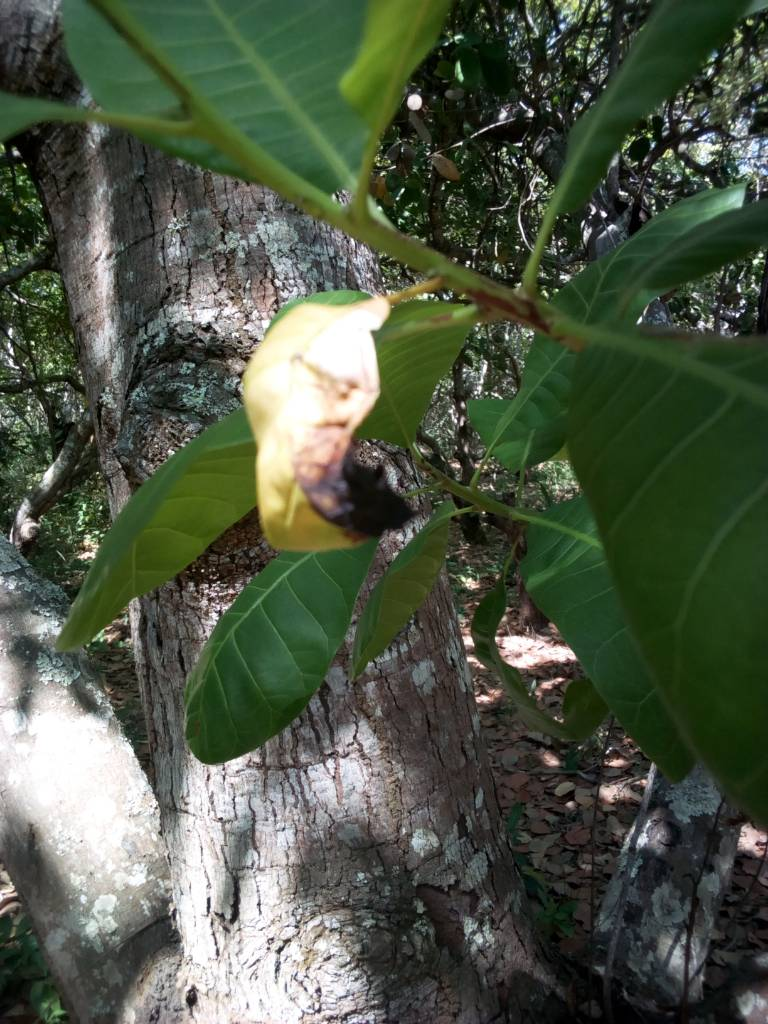Die-black: (221, 280, 429, 575)
